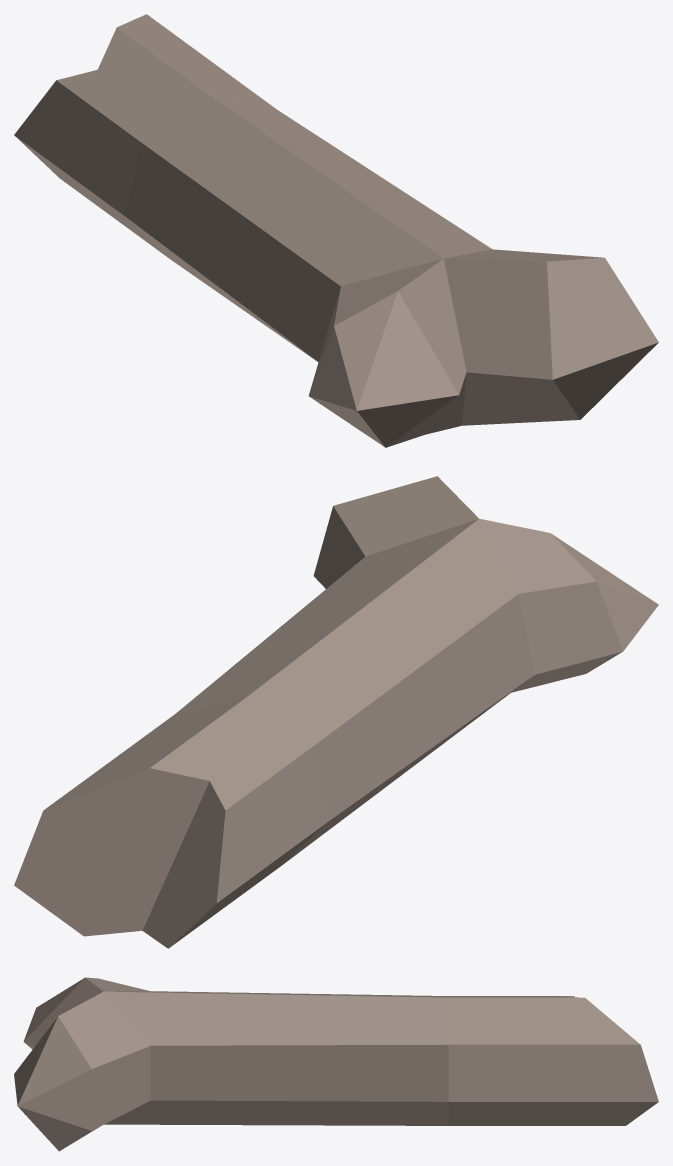
File: LPHorror_BoneA.fbx
3 views of the same model, one above another, from view 1: azimuth 30°, elevation 25°; view 2: azimuth 150°, elevation 25°; view 3: azimuth 270°, elevation 25° (orthographic). The views are drawn at different scales.
Parts seen in each view (by area): view 1: BoneA; view 2: BoneA; view 3: BoneA.
Boxes of the visible parts, x1,y1,x2,y2 form: BoneA: (14,14,658,447); BoneA: (14,476,658,948); BoneA: (14,977,658,1151).
Size of the model in its own units: 17.1 by 9.1 by 41.63.
